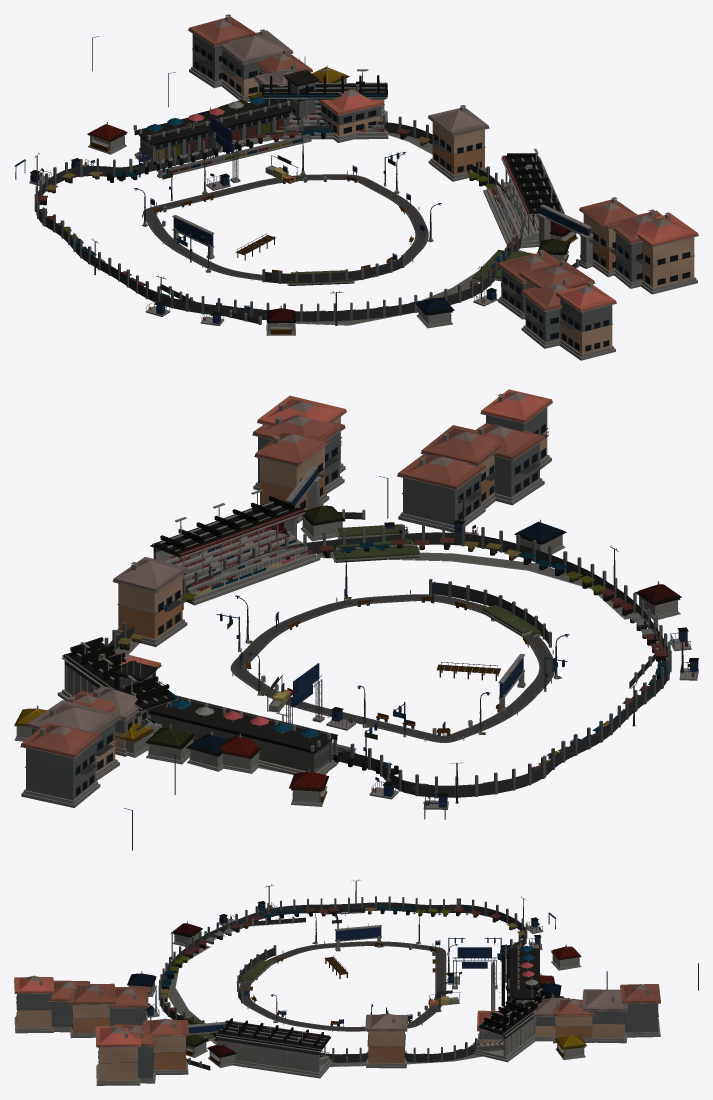
File: albert-park.glb
3 views of the same model, one above another, from view 1: azimuth 30°, elevation 25°; view 2: azimuth 150°, elevation 25°; view 3: azimuth 270°, elevation 25° (orthographic). The views are drawn at different scales.
Visible parts, largest first — view 1: fringe:grand-prix-park-buildings, fringe:grand-prix-track-furniture, fringe:grand-prix-pit-building, fringe:grand-prix-paths-furniture, fringe:grand-prix-grandstand-main, fringe:grand-prix-signs-lights, fringe:grand-prix-event-structures, fringe:grand-prix-grandstand-north, fringe:grand-prix-entry-gates, fringe:grand-prix-timing-tower, fringe:grand-prix-spectator-banks; view 2: fringe:grand-prix-park-buildings, fringe:grand-prix-track-furniture, fringe:grand-prix-paths-furniture, fringe:grand-prix-event-structures, fringe:grand-prix-grandstand-main, fringe:grand-prix-pit-building, fringe:grand-prix-signs-lights, fringe:grand-prix-grandstand-north, fringe:grand-prix-spectator-banks, fringe:grand-prix-entry-gates, fringe:grand-prix-timing-tower; view 3: fringe:grand-prix-park-buildings, fringe:grand-prix-track-furniture, fringe:grand-prix-paths-furniture, fringe:grand-prix-grandstand-main, fringe:grand-prix-event-structures, fringe:grand-prix-signs-lights, fringe:grand-prix-grandstand-north, fringe:grand-prix-pit-building, fringe:grand-prix-entry-gates, fringe:grand-prix-spectator-banks, fringe:grand-prix-timing-tower.
Part boxes in pixels (x1,y1,x2,y2): fringe:grand-prix-park-buildings: (188, 14, 698, 360); fringe:grand-prix-track-furniture: (34, 97, 534, 325); fringe:grand-prix-pit-building: (133, 97, 311, 178); fringe:grand-prix-paths-furniture: (107, 132, 580, 325); fringe:grand-prix-grandstand-main: (483, 148, 564, 248); fringe:grand-prix-signs-lights: (14, 36, 557, 326); fringe:grand-prix-event-structures: (87, 65, 578, 335); fringe:grand-prix-grandstand-north: (261, 69, 388, 139); fringe:grand-prix-entry-gates: (172, 204, 593, 268); fringe:grand-prix-timing-tower: (283, 56, 319, 118); fringe:grand-prix-spectator-banks: (287, 249, 534, 285); fringe:grand-prix-park-buildings: (20, 389, 552, 807); fringe:grand-prix-track-furniture: (104, 498, 683, 803); fringe:grand-prix-paths-furniture: (116, 509, 658, 775); fringe:grand-prix-event-structures: (14, 502, 681, 806); fringe:grand-prix-grandstand-main: (150, 489, 320, 605); fringe:grand-prix-pit-building: (144, 695, 356, 774); fringe:grand-prix-signs-lights: (75, 476, 698, 850); fringe:grand-prix-grandstand-north: (57, 637, 178, 736); fringe:grand-prix-spectator-banks: (331, 524, 540, 637); fringe:grand-prix-entry-gates: (284, 465, 525, 712); fringe:grand-prix-timing-tower: (114, 652, 157, 712); fringe:grand-prix-park-buildings: (14, 975, 660, 1085); fringe:grand-prix-track-furniture: (154, 879, 527, 1062); fringe:grand-prix-paths-furniture: (166, 916, 509, 1070); fringe:grand-prix-grandstand-main: (215, 1018, 332, 1078); fringe:grand-prix-event-structures: (127, 921, 586, 1067); fringe:grand-prix-signs-lights: (146, 901, 698, 1031); fringe:grand-prix-grandstand-north: (468, 985, 554, 1062); fringe:grand-prix-pit-building: (491, 945, 541, 1010); fringe:grand-prix-entry-gates: (188, 923, 381, 1044); fringe:grand-prix-spectator-banks: (187, 960, 272, 1041); fringe:grand-prix-timing-tower: (514, 978, 535, 1007).
Bounding box in the file's own units: 92.24 × 13.1 × 150.
Materials: 6 (6 with a texture image).
